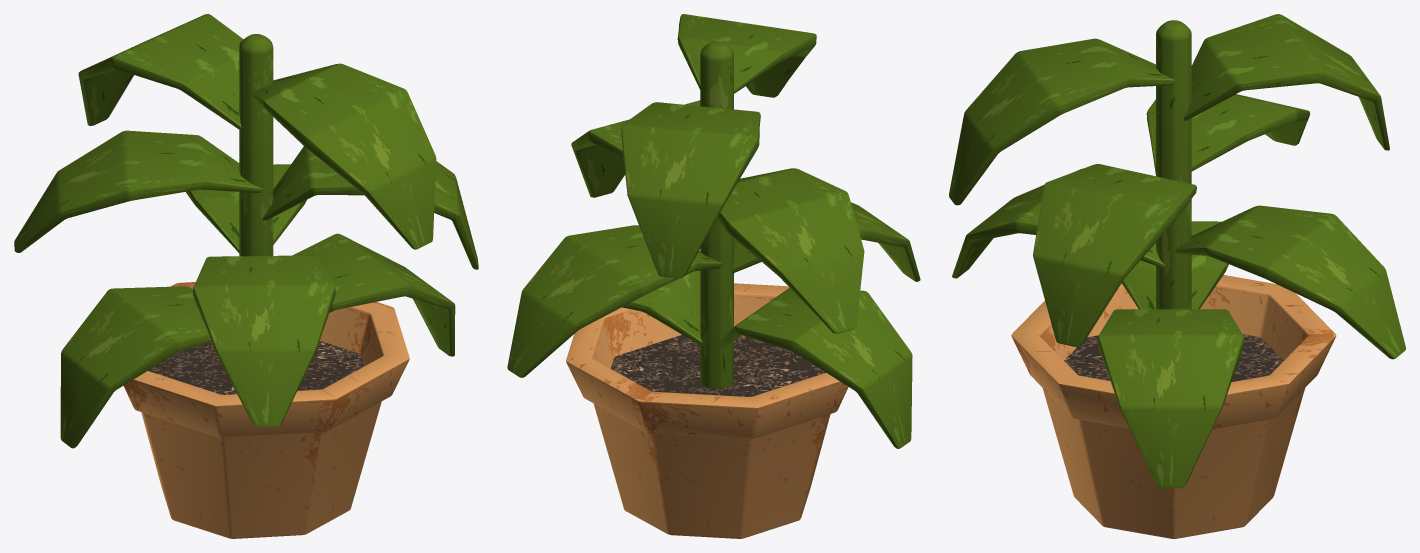
Rendered from Plant_1.fbx.
3 renders of one model, left to right at view 1: azimuth 30°, elevation 25°; view 2: azimuth 150°, elevation 25°; view 3: azimuth 270°, elevation 25°, orthographic. The views are drawn at different scales.
Visible parts, largest first — view 1: Plant_Leaves, Plant_Pot, Plant_Soil; view 2: Plant_Leaves, Plant_Pot, Plant_Soil; view 3: Plant_Leaves, Plant_Pot, Plant_Soil.
Part boxes in pixels (left/top/right/bottom): Plant_Leaves: left=14, top=14, right=478, bottom=448; Plant_Pot: left=123, top=282, right=409, bottom=538; Plant_Soil: left=148, top=341, right=364, bottom=394; Plant_Leaves: left=507, top=14, right=920, bottom=448; Plant_Pot: left=566, top=283, right=848, bottom=538; Plant_Soil: left=611, top=335, right=825, bottom=396; Plant_Leaves: left=949, top=14, right=1405, bottom=488; Plant_Pot: left=1011, top=275, right=1336, bottom=538; Plant_Soil: left=1064, top=334, right=1283, bottom=381.
Size of the model in its own units: 116 by 134 by 117.
3 materials, 3 textured.
